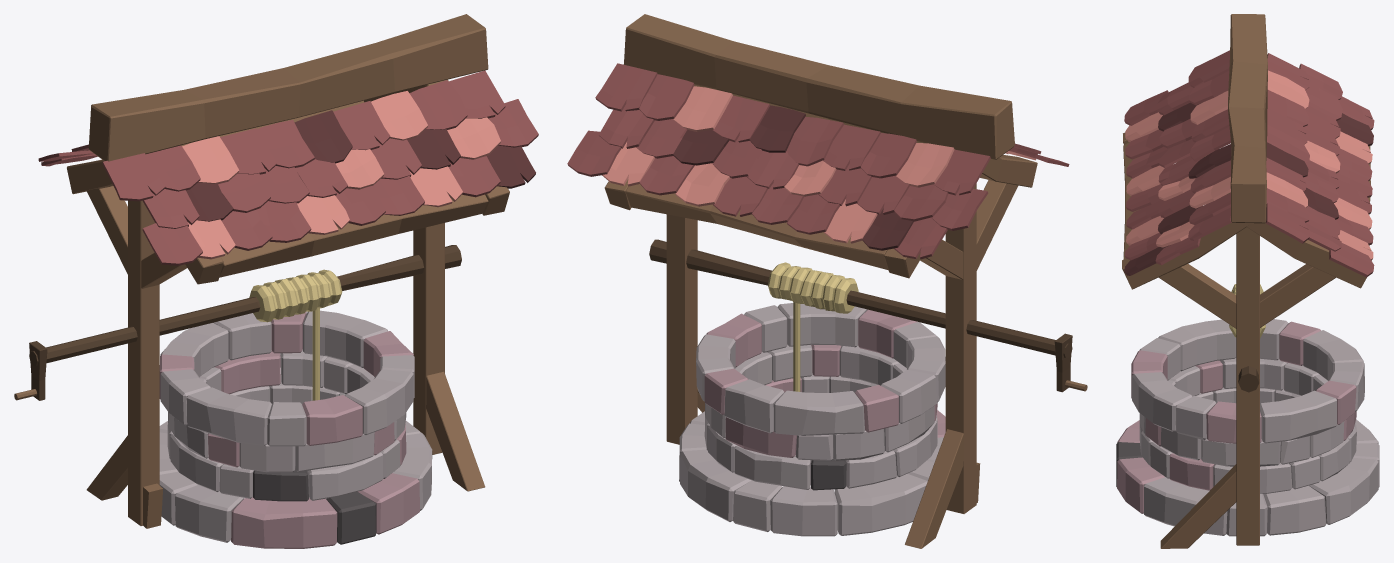
The picture shows the model from 3 angles, left to right: view 1: azimuth 30°, elevation 25°; view 2: azimuth 150°, elevation 25°; view 3: azimuth 270°, elevation 25°; orthographic projection. The views are drawn at different scales.
Visible parts, largest first — view 1: Cube; view 2: Cube; view 3: Cube.
Part boxes in pixels (bbox=[...]): Cube: bbox=[14, 14, 538, 548]; Cube: bbox=[567, 14, 1087, 548]; Cube: bbox=[1116, 14, 1379, 548].
Bounding box in the file's own units: 2941 × 2510 × 1553.
